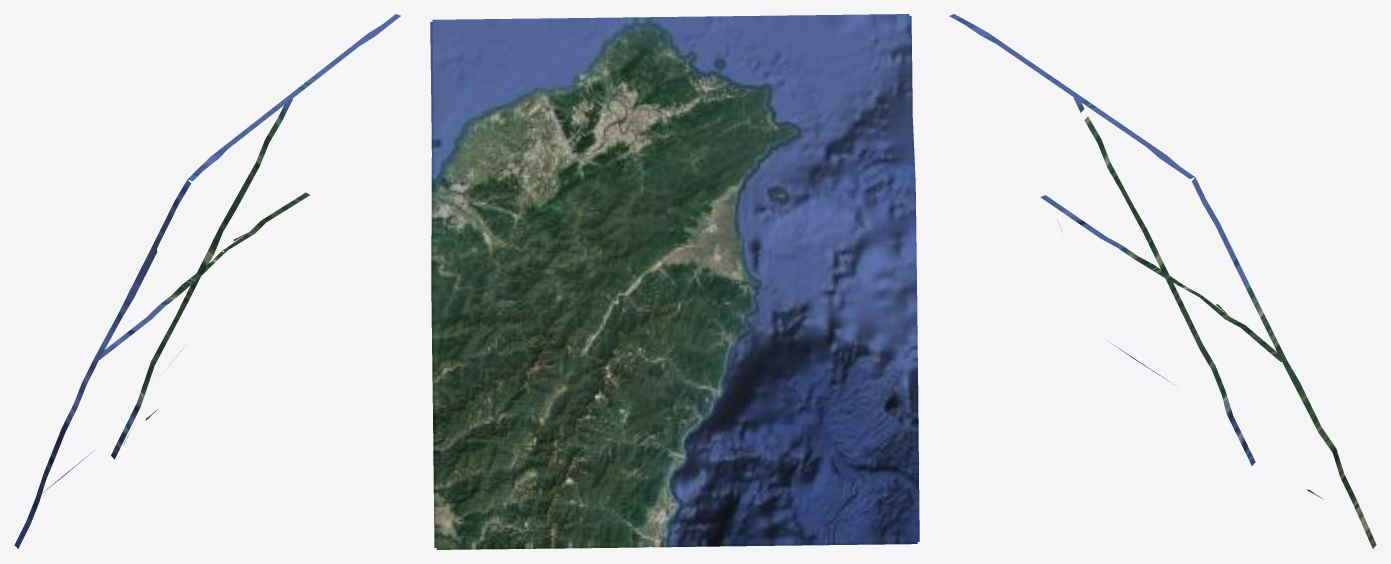
3 renders of one model, left to right at view 1: azimuth 30°, elevation 25°; view 2: azimuth 150°, elevation 25°; view 3: azimuth 270°, elevation 25°, orthographic. The views are drawn at different scales.
Bounding box in the file's own units: 155597 × 145279 × 133150.
1 material, 1 textured.
